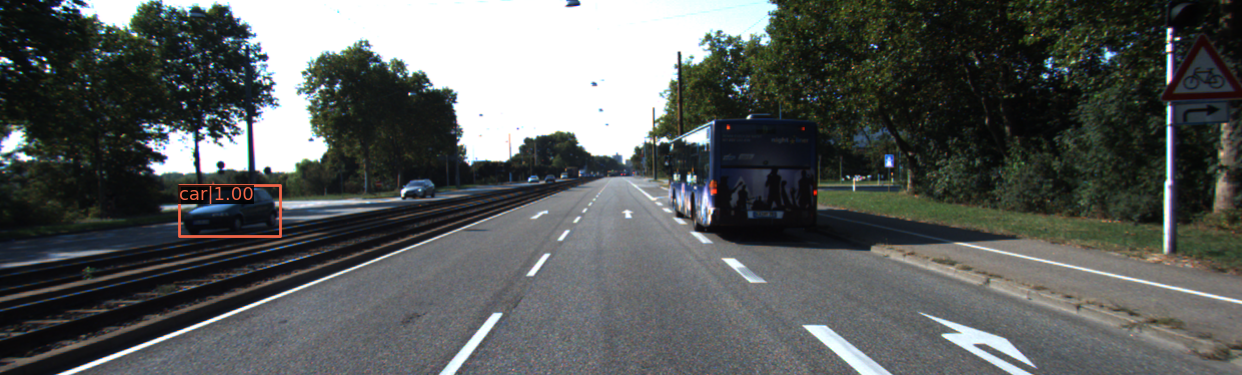car: (183, 190, 285, 236), (399, 180, 438, 200)
